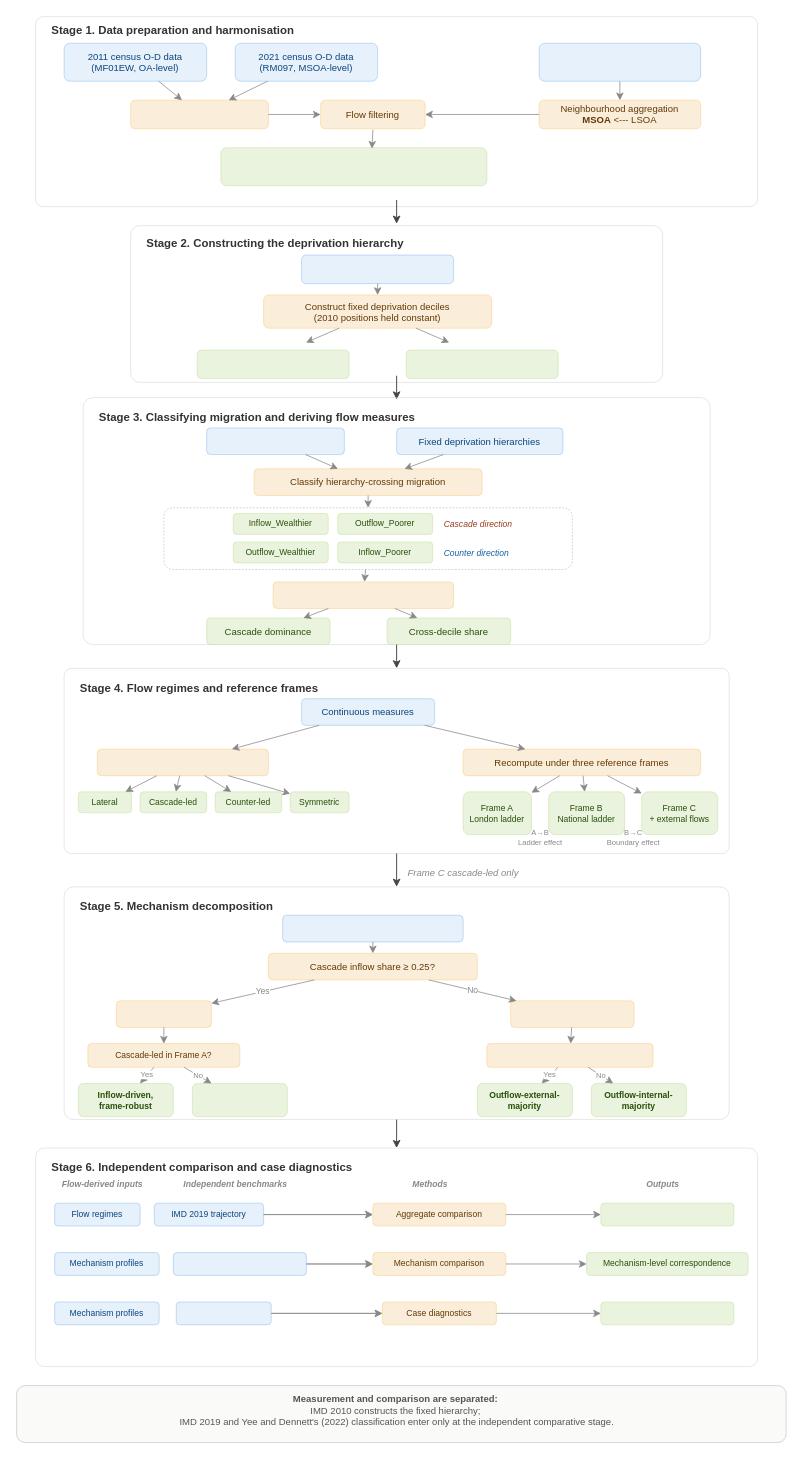
This 803x1459 diagram has some shape labels left out. The shapes that lost their labels are listed below. From the top down, each one's centre as x and y in pixels, then its label:
point 619,62: Neighbourhood data (IMD 2010&2019, Yee labels)
point 199,114: Spatial harmonisation
point 353,166: Harmonised analytical dataset 982 MSOA s; flows and neighbourhood indicators
point 377,268: IMD 2010 MSOA scores
point 272,363: London-relative hierarchy
point 481,363: England-wide hierarchy
point 275,440: Harmonised O-D flows
point 362,594: Derive continuous measures
point 182,761: Assign coarse flow regimes
point 372,928: Frame C cascade-led MSOAs
point 163,1013: Inflow-led
point 572,1013: Outflow-dominated
point 569,1055: External-arm share ≥ 0.50?
point 239,1100: Frame-sensitive inflow
point 667,1214: Aggregate correspondence
point 239,1263: Yee and Dennett subtypes
point 223,1313: Selected MSOAs
point 667,1313: Case-level flow structures
